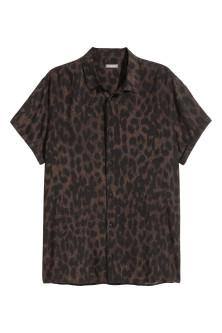teeshirt: (14, 46, 212, 285)
